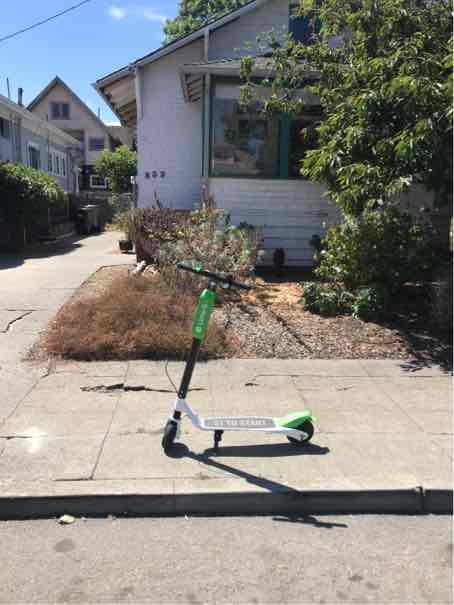scooter: (149, 249, 330, 472)
